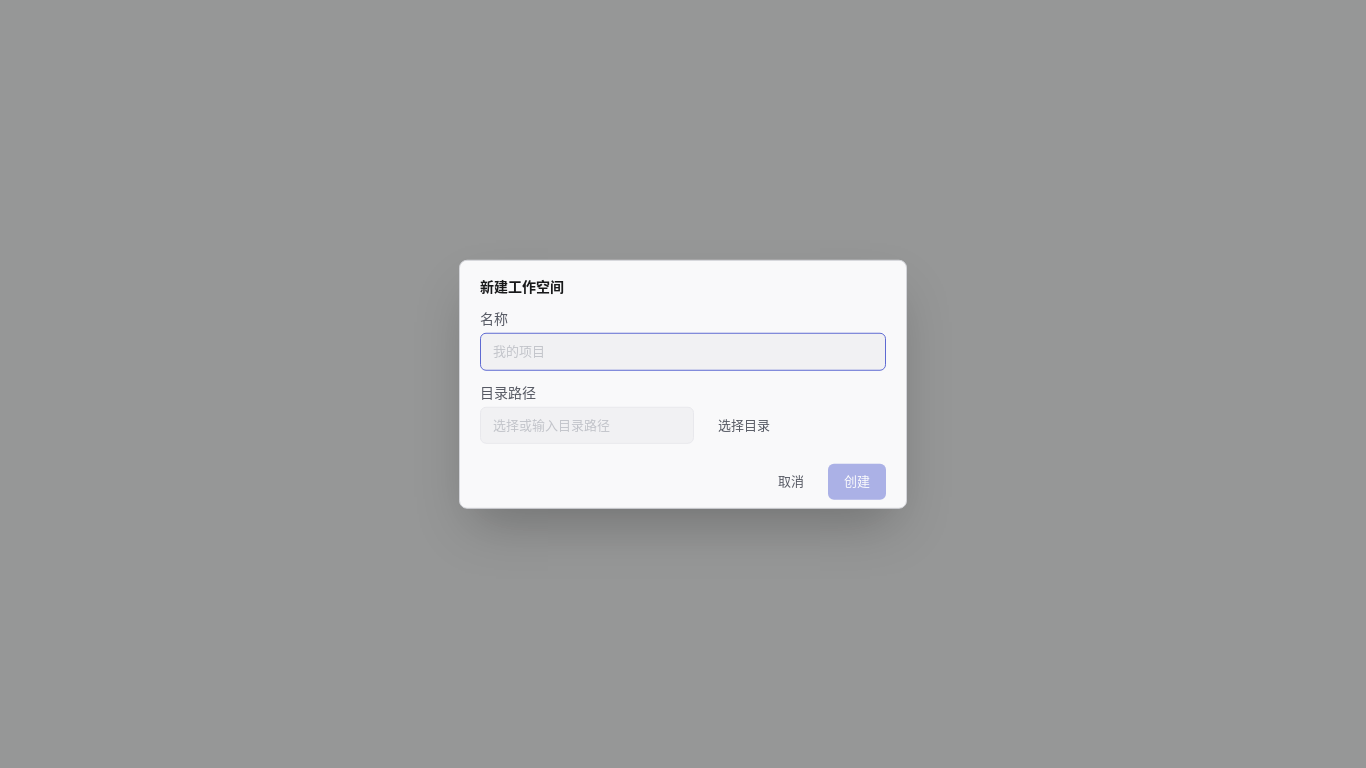
Test: D7 目录不存在确认弹层 › 错误友好化：EACCES → 无写入权限人话（剥 IPC 前缀）
Type "星陨谷" into the field labelled "名称".
click(683, 352); type("星陨谷")  # box [480, 333, 886, 370]
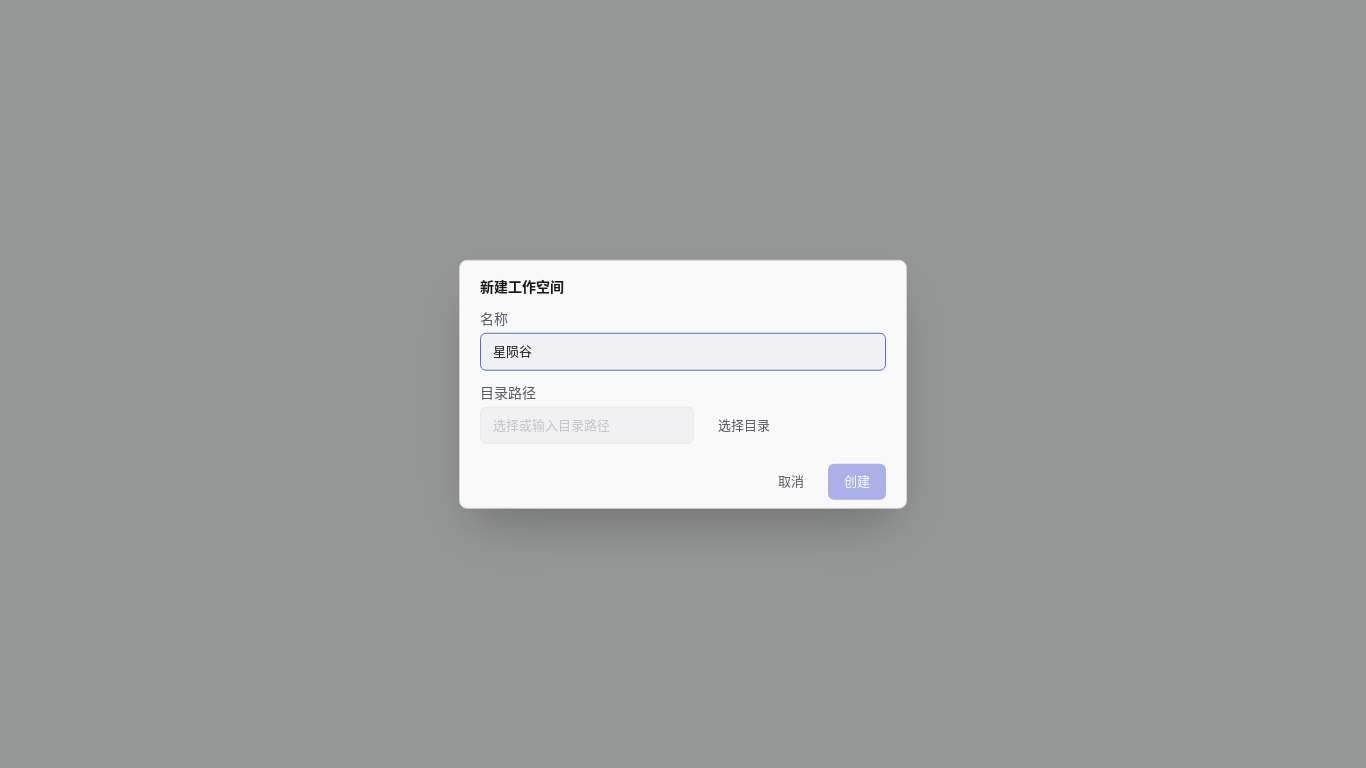
Type "/tmp/typo-not-exist" into the field with placeholder "选择或输入目录路径".
click(587, 425); type("/tmp/typo-not-exist")  # box [480, 406, 694, 444]
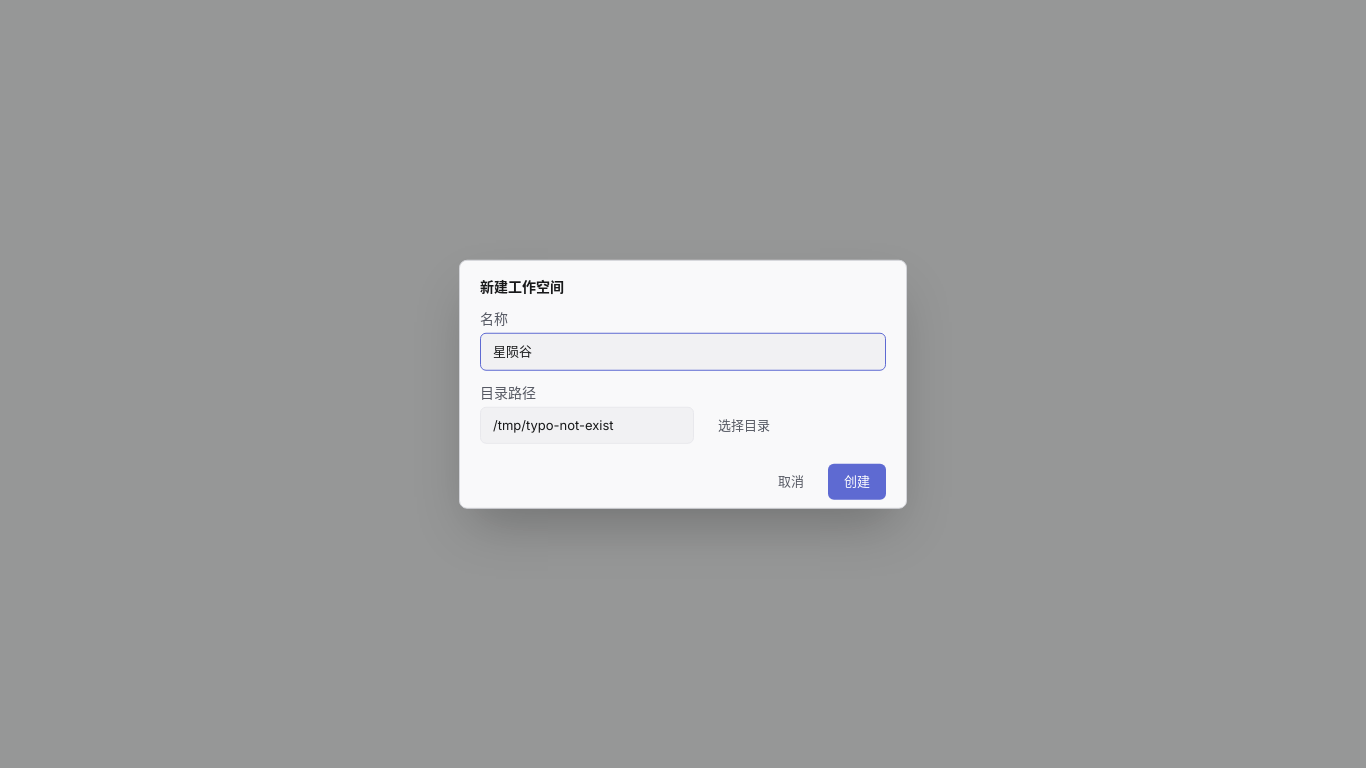
Click the button "创建".
click(857, 482)  # box [828, 464, 886, 499]
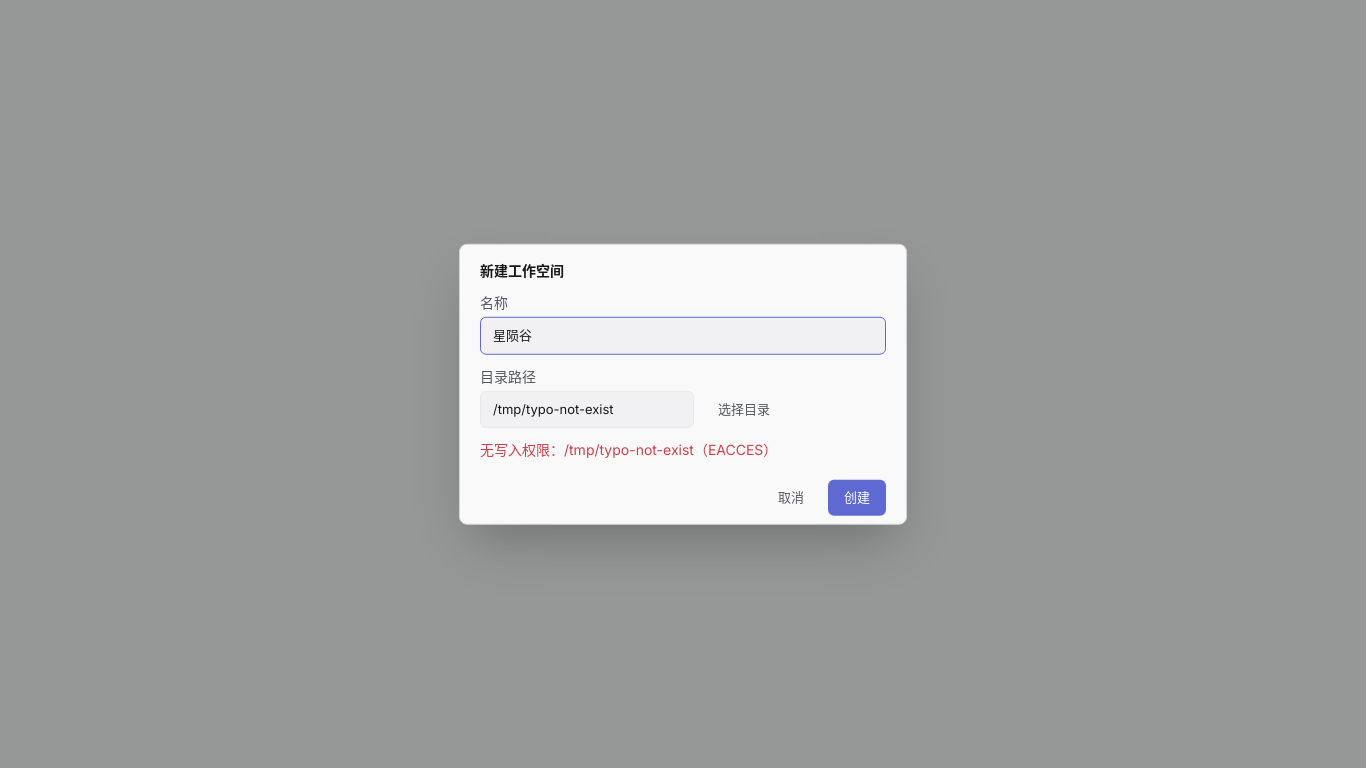
Result: the text "无写入权限：/tmp/typo-not-exist（EACCES）" is shown at [480, 441, 777, 458]
